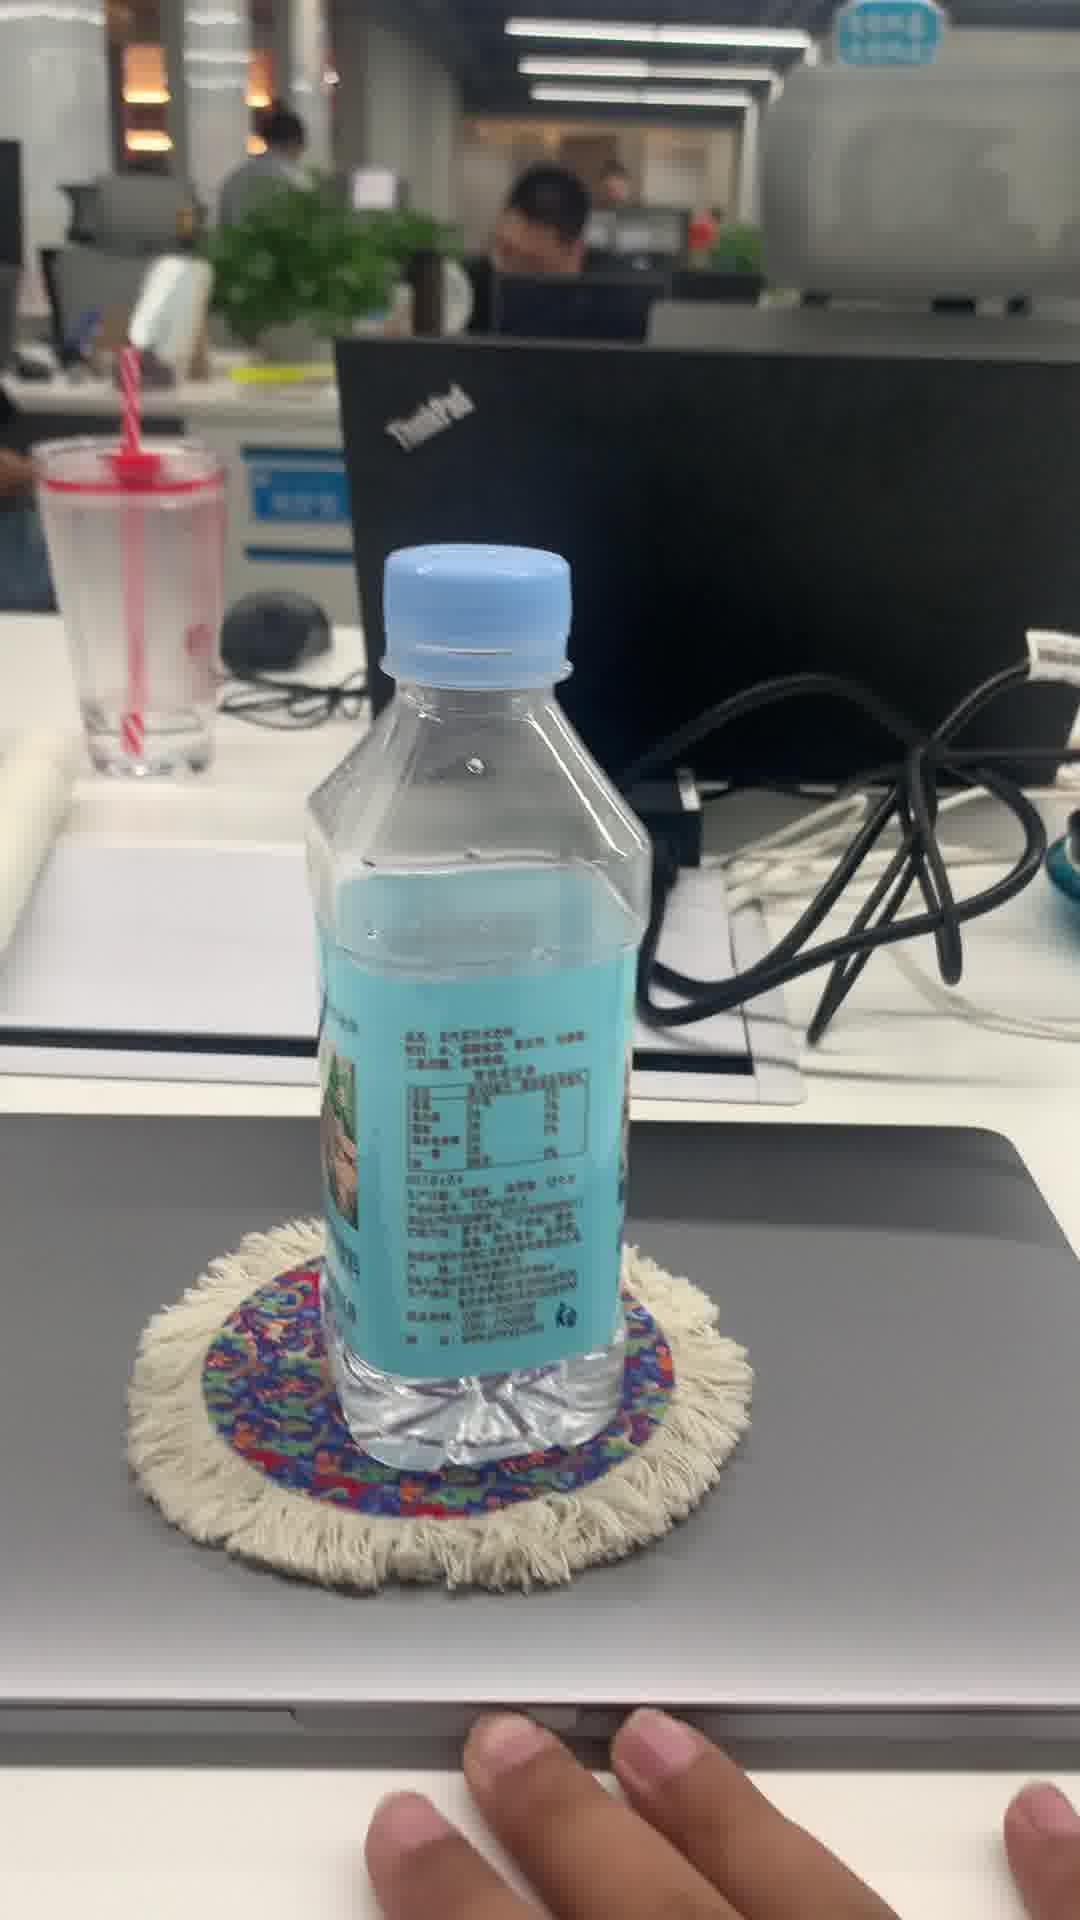水瓶: (299, 535, 649, 1474)
